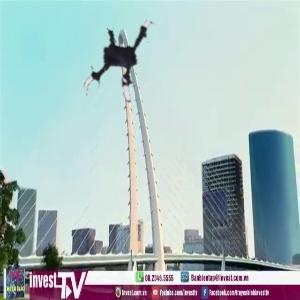drone: (74, 15, 177, 118)
